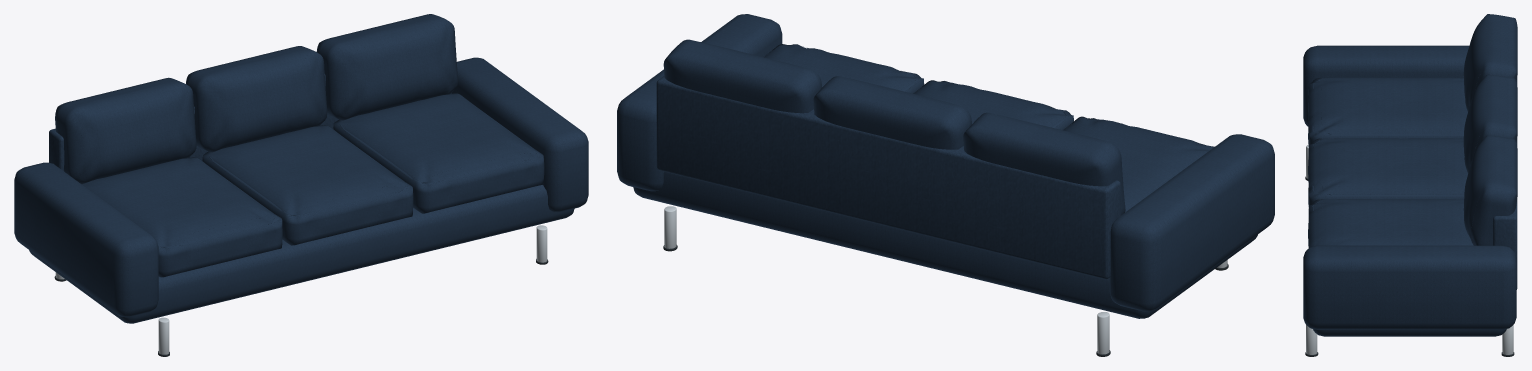
File: track-sofa.glb
3 renders of one model, left to right at view 1: azimuth 30°, elevation 25°; view 2: azimuth 150°, elevation 25°; view 3: azimuth 270°, elevation 25°, orthographic. The views are drawn at different scales.
Parts seen in each view (by area): view 1: catalog_surface_UVMap, catalog_surface_RealismUV; view 2: catalog_surface_UVMap, catalog_surface_RealismUV; view 3: catalog_surface_UVMap, catalog_surface_RealismUV.
Boxes of the visible parts, box(x1,y1,x2,y2) form: catalog_surface_UVMap: box(14, 14, 588, 356); catalog_surface_RealismUV: box(55, 41, 547, 354); catalog_surface_UVMap: box(617, 14, 1274, 356); catalog_surface_RealismUV: box(664, 45, 1227, 354); catalog_surface_UVMap: box(1303, 14, 1517, 356); catalog_surface_RealismUV: box(1306, 77, 1513, 354).
Size of the model in its own units: 2.3 by 0.82 by 0.95.
4 materials, 1 textured.
